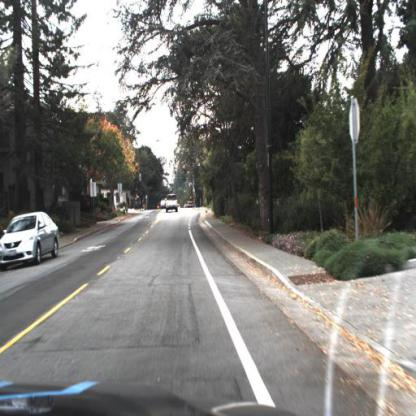car: (1, 213, 61, 272), (167, 193, 179, 215)
